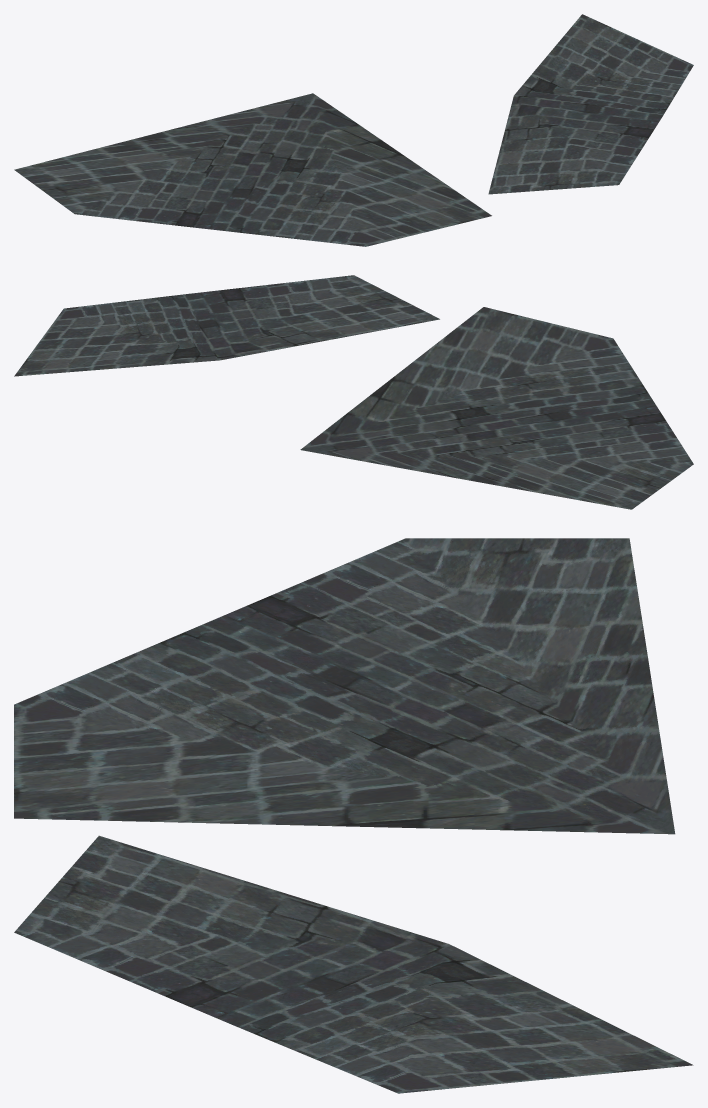
File: blend_brick10.fbx
3 renders of one model, top to bottom at view 1: azimuth 30°, elevation 25°; view 2: azimuth 150°, elevation 25°; view 3: azimuth 270°, elevation 25°, orthographic. The views are drawn at different scales.
Visible parts, largest first — view 1: obj0.009; view 2: obj0.009; view 3: obj0.009.
Boxes of the visible parts, <box> form: obj0.009: <box>14,14,693,246</box>; obj0.009: <box>14,275,693,509</box>; obj0.009: <box>14,538,693,1093</box>.
Bounding box in the file's own units: 13.06 × 0.1726 × 6.76.
